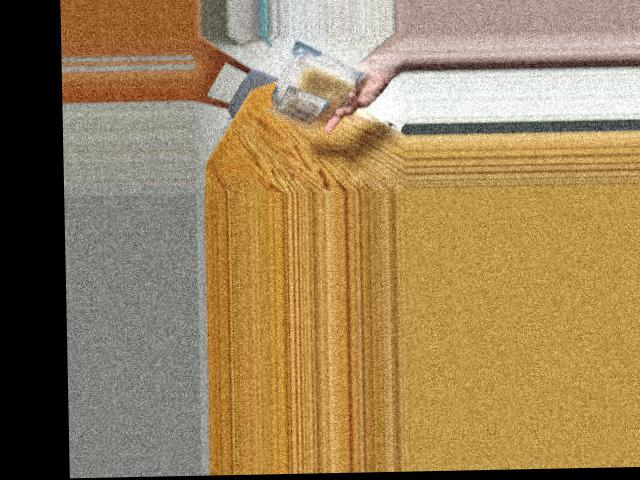cheese: (263, 50, 361, 129)
